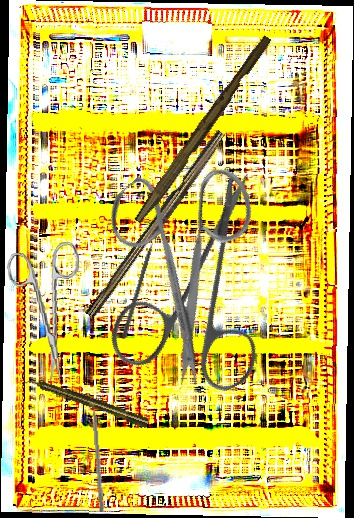Handpiece: (24, 373, 150, 430)
Iris Scissors: (58, 127, 323, 394), (66, 166, 332, 428), (5, 240, 90, 386)
Pusher: (120, 228, 161, 340), (90, 391, 106, 513)
Scalpel Handle: (84, 127, 230, 323), (133, 32, 274, 228)
